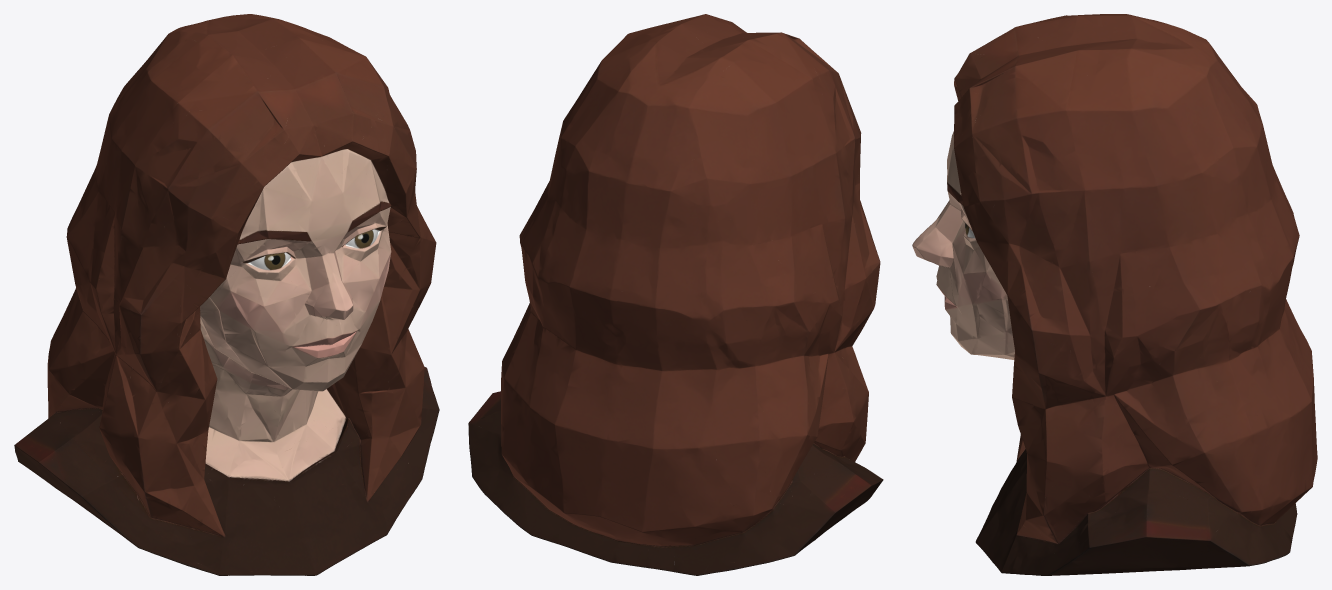
Rendered from RoomHeadWoman.fbx.
The picture shows the model from 3 angles, left to right: view 1: azimuth 30°, elevation 25°; view 2: azimuth 150°, elevation 25°; view 3: azimuth 270°, elevation 25°; orthographic projection. The views are drawn at different scales.
Parts seen in each view (by area): view 1: Mesh_0; view 2: Mesh_0; view 3: Mesh_0.
Part boxes in pixels (box(x1,y1,x2,y2)): Mesh_0: box(14, 14, 439, 575); Mesh_0: box(468, 14, 883, 575); Mesh_0: box(912, 14, 1317, 575).
Bounding box in the file's own units: 156 × 190 × 137.
Materials: 1 (1 with a texture image).
